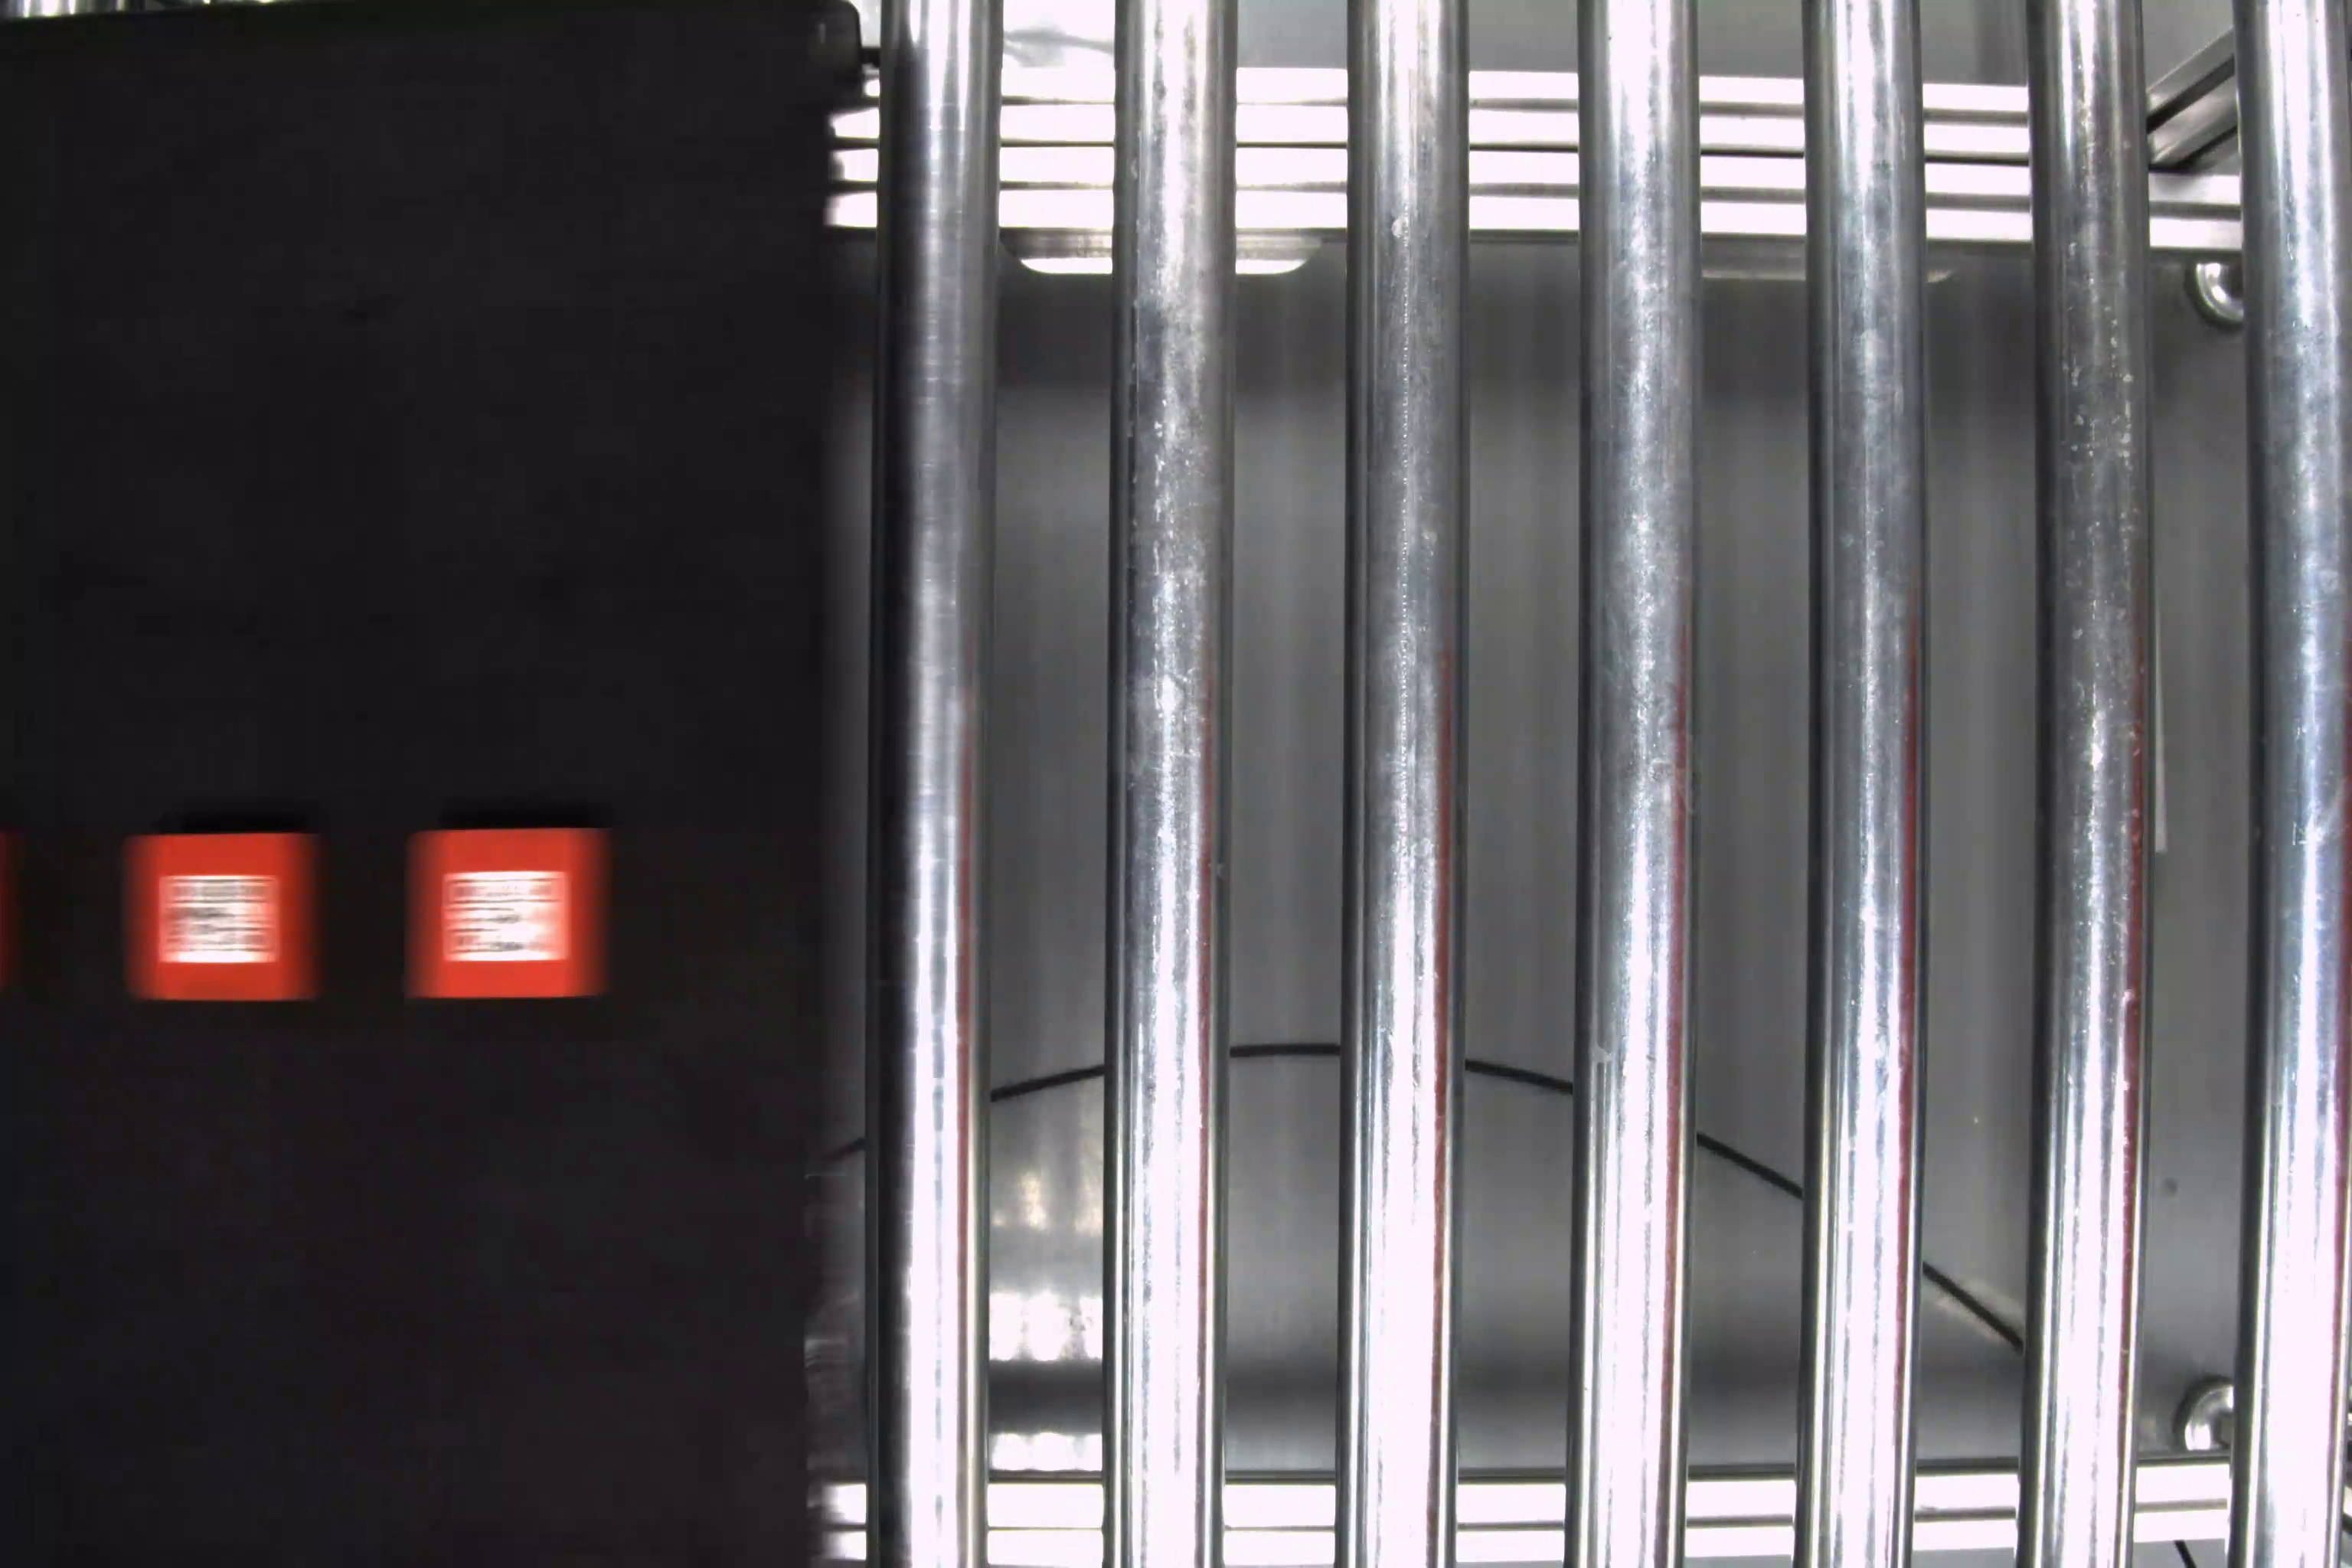wood: (409, 828, 616, 1003), (126, 831, 325, 1006)
